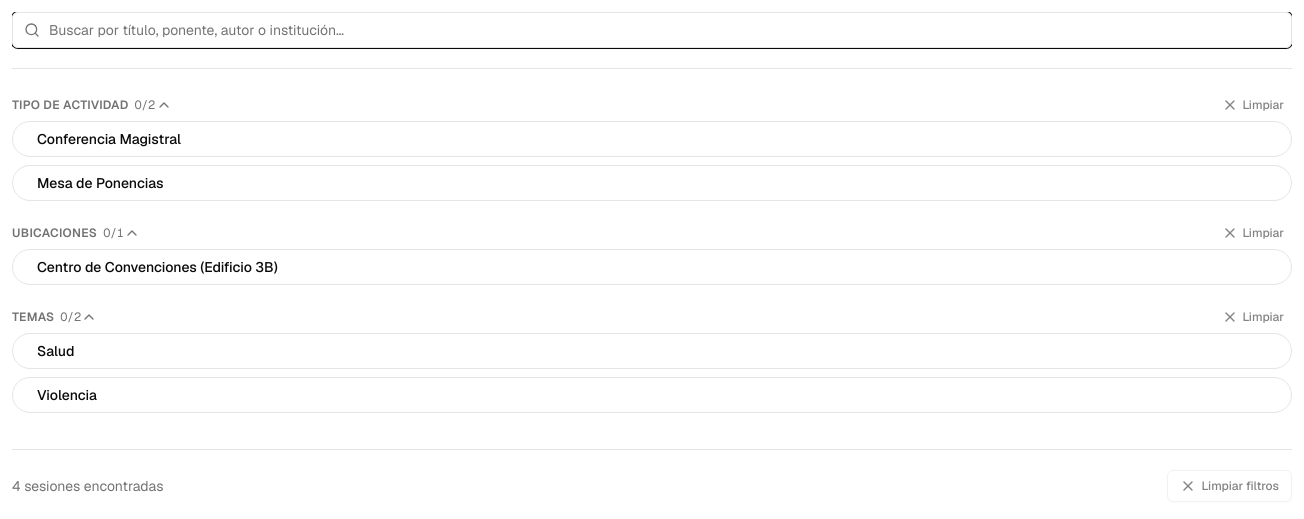
Test: FilterSidebar › forwards search input and global clear
Type "viol" into the search field with placeholder "Buscar por título, ponente, autor o institución…" at (652, 30), box [12, 12, 1292, 48]
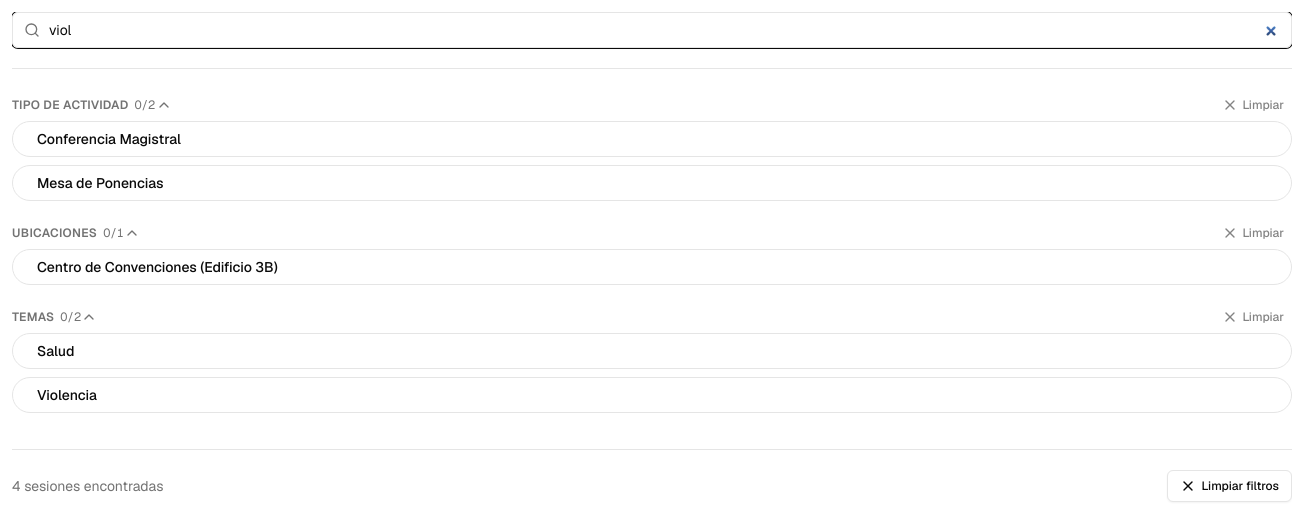
Result: the button "Limpiar filtros" is enabled at [1166, 470, 1292, 502]
